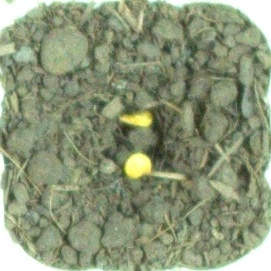pepper seed: (46, 62, 199, 242), (40, 43, 196, 174)
